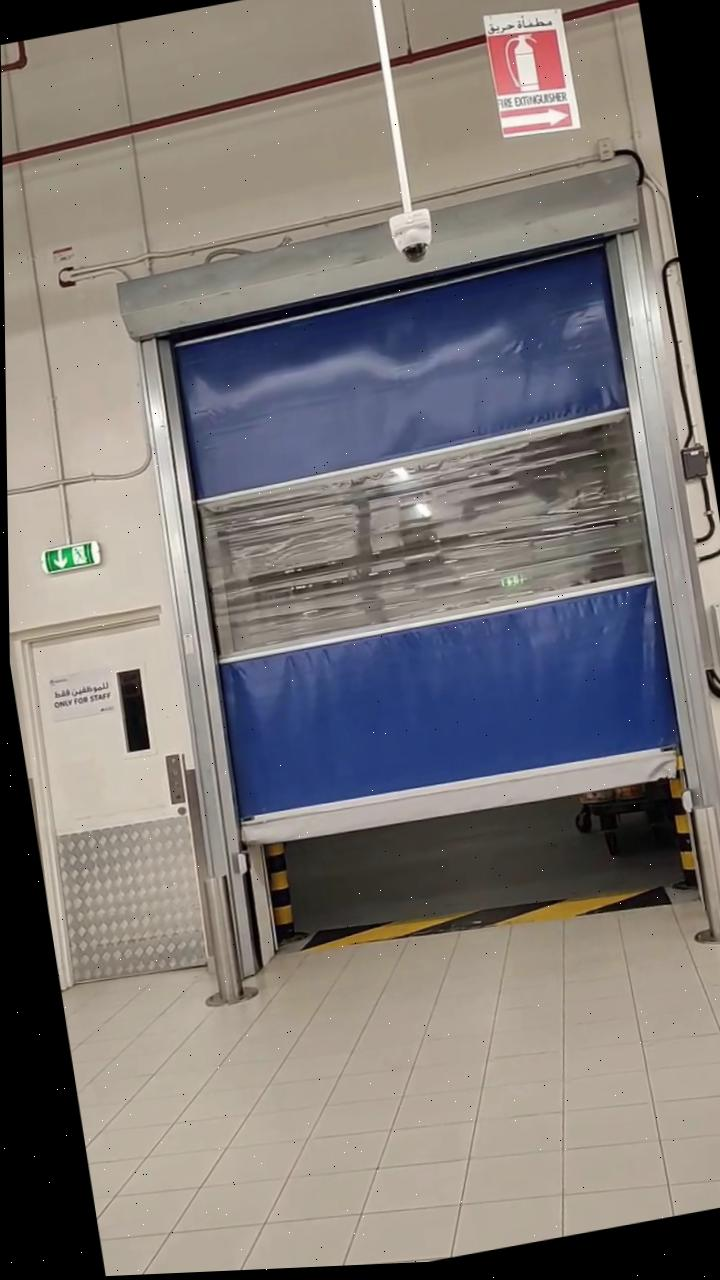Strip: (297, 864, 670, 974)
